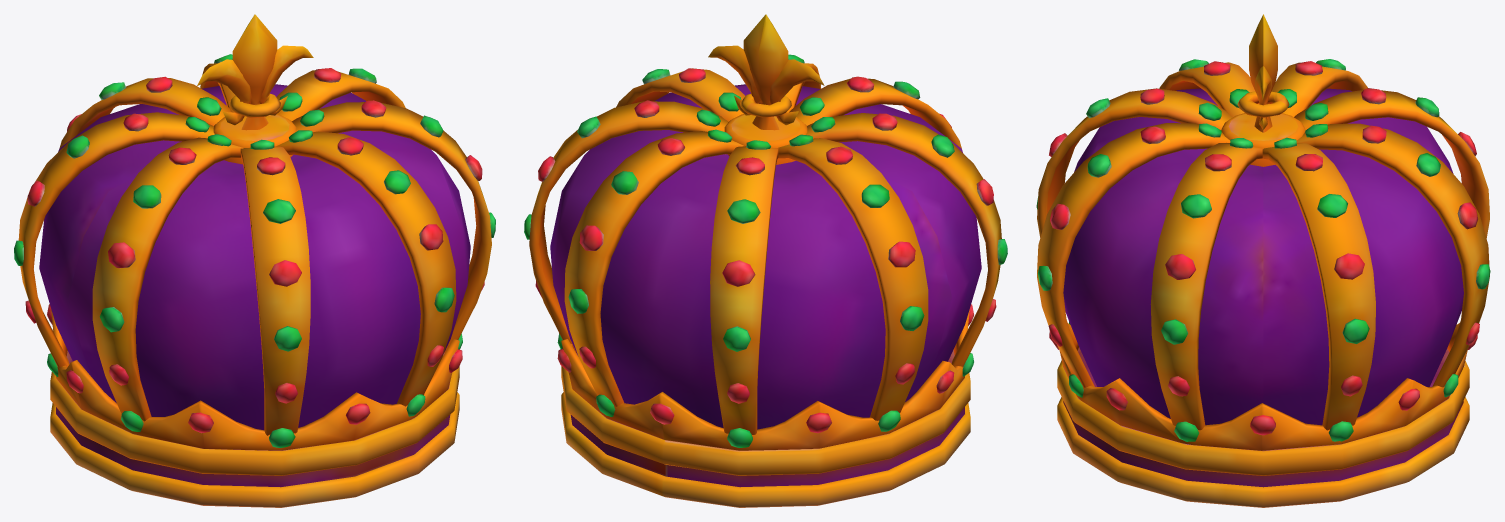
The model's file is Crown.glb.
3 renders of one model, left to right at view 1: azimuth 30°, elevation 25°; view 2: azimuth 150°, elevation 25°; view 3: azimuth 270°, elevation 25°, orthographic.
Parts seen in each view (by area): view 1: Crown; view 2: Crown; view 3: Crown.
Boxes of the visible parts, x1,y1,x2,y2 form: Crown: (14, 14, 495, 507); Crown: (524, 14, 1007, 507); Crown: (1036, 14, 1490, 507).
Bounding box in the file's own units: 0.5702 × 0.567 × 0.5702.
1 material, 1 textured.
